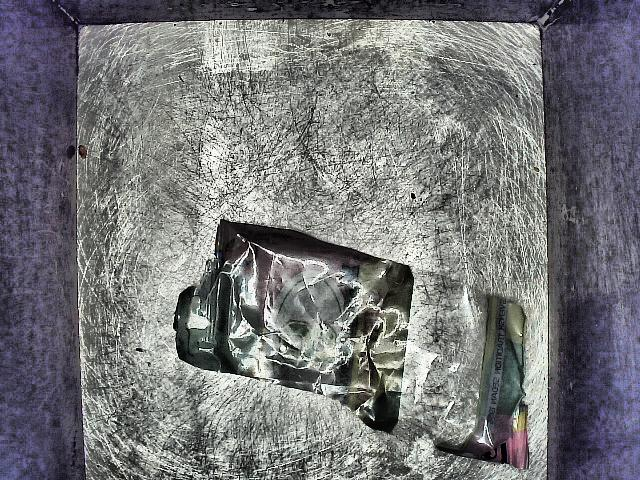Plastic: (170, 211, 537, 480)
